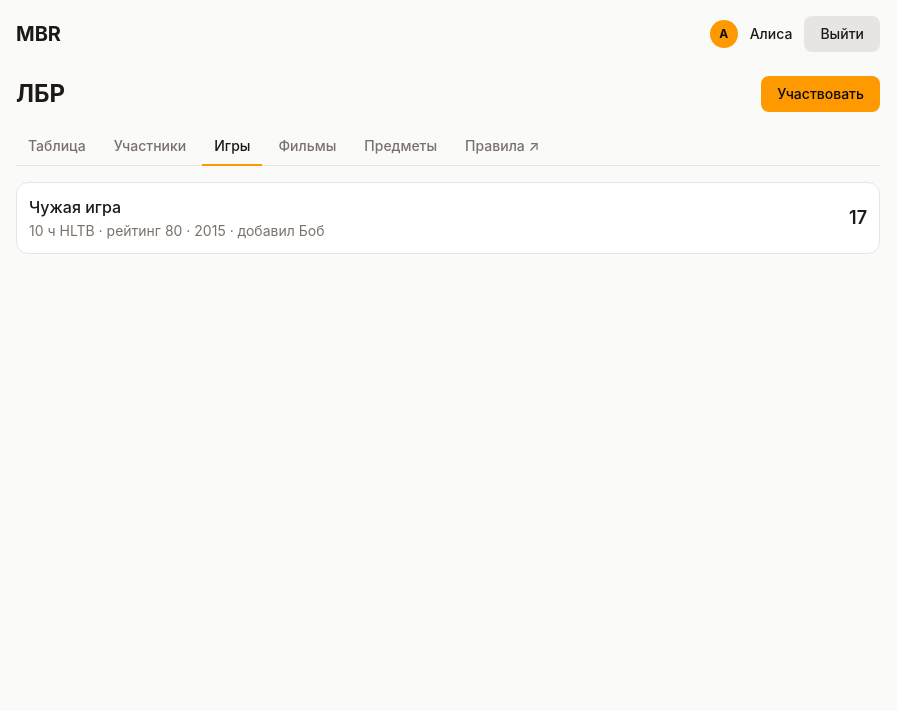
Test: events › lets a player join and add a game; others cannot edit it
Check: the text "Чужая игра" is shown, box [29,197,121,217]
Check: the text "Добавить игру" is not shown
Click the button "Участвовать".
click(821, 94)  # box [761,76,880,112]
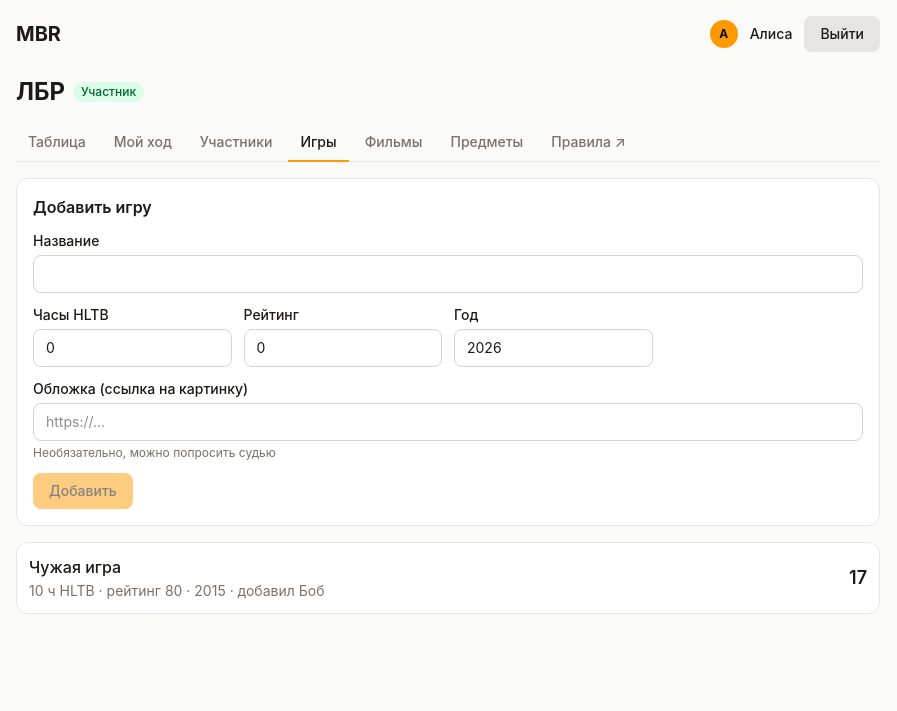
Check: the button "Изменить" is not shown
Check: the heading "Добавить игру" is shown, box [33,197,152,217]
Type "GTA San Andreas" into the field labelled "Название".
click(448, 274); type("GTA San Andreas")  # box [33,255,863,293]
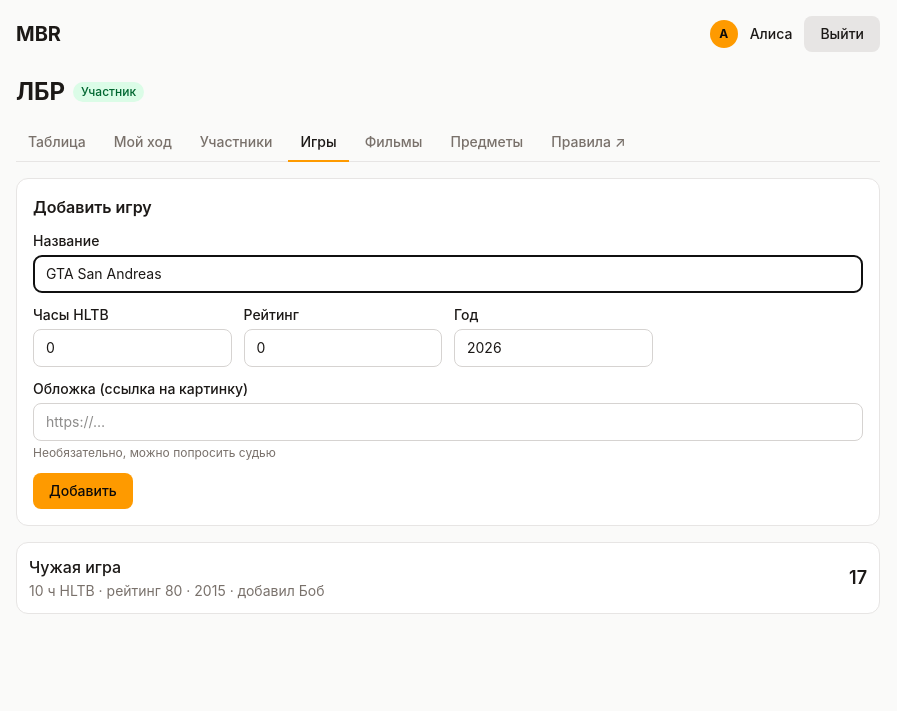
Replace the text in the number field labelled "Часы HLTB" with "30" at (132, 348), box [33,329,232,367]
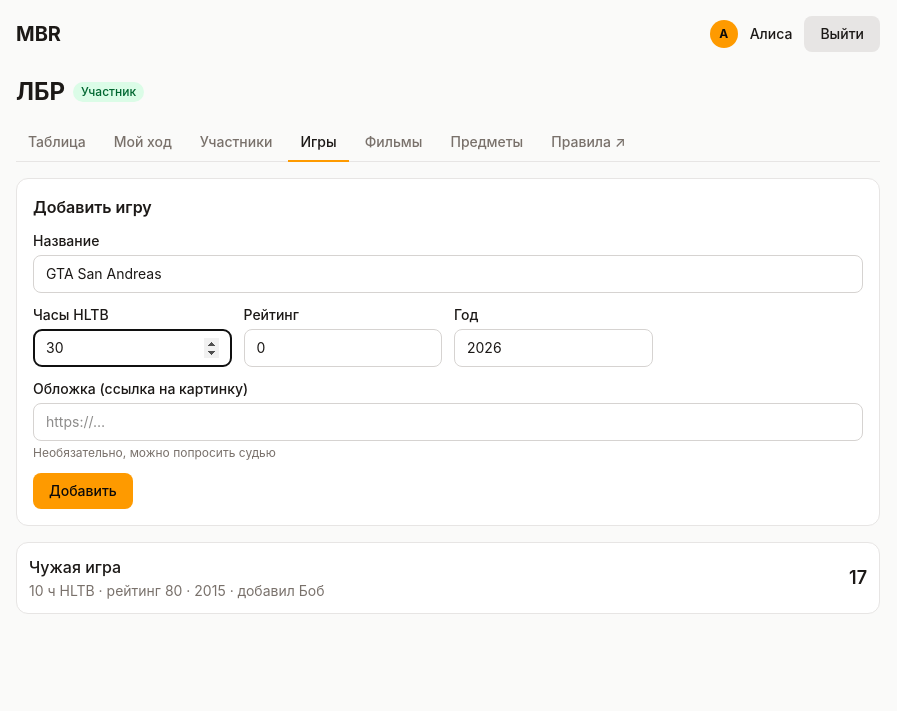
Click the button "Добавить".
click(83, 491)  # box [33,473,133,509]
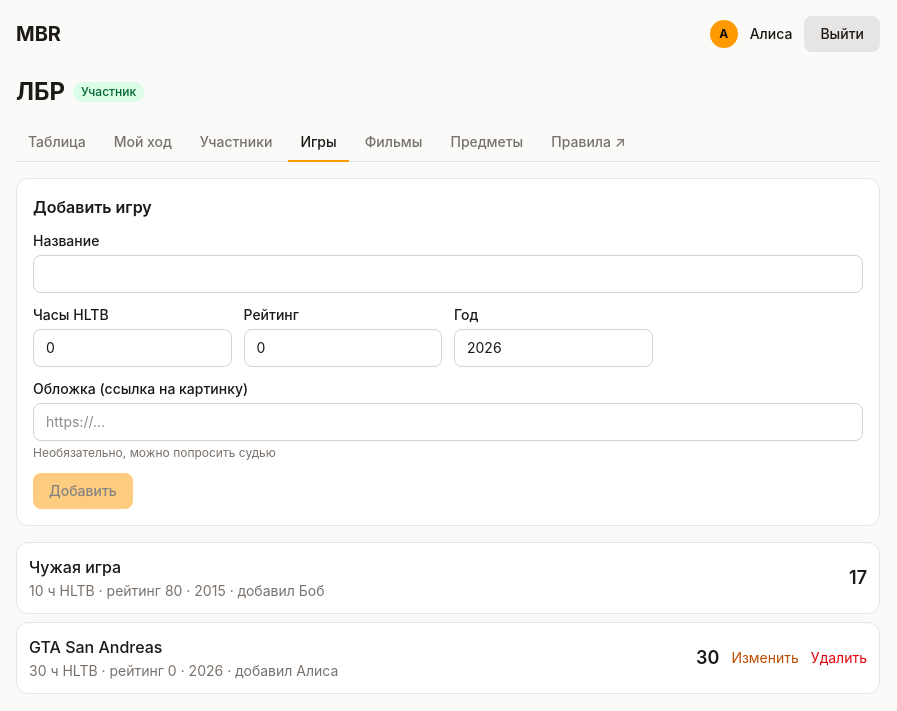
Check: the button "Изменить" is shown, box [731,648,799,668]
